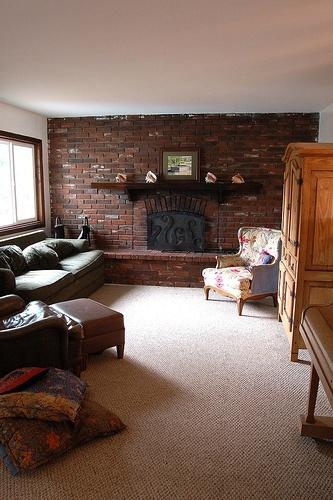chair: (203, 227, 283, 317), (1, 295, 69, 379)
sofa: (1, 231, 107, 307)
